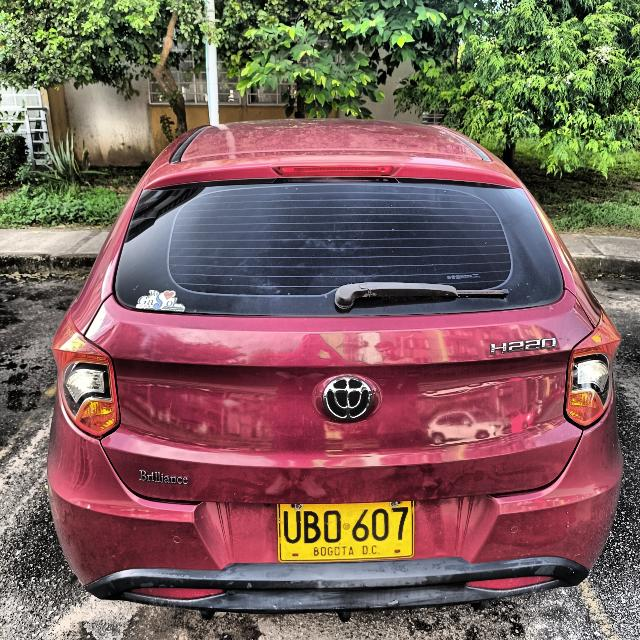plate: (278, 501, 412, 561)
